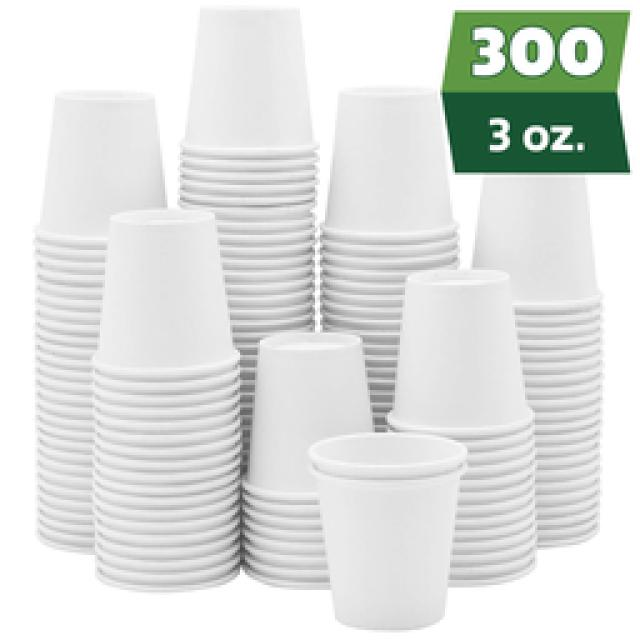paper_cups: (440, 1, 640, 344), (388, 270, 536, 590), (239, 324, 378, 582), (92, 212, 241, 437), (315, 427, 470, 628), (27, 82, 176, 271), (178, 2, 323, 196), (322, 82, 468, 270)
